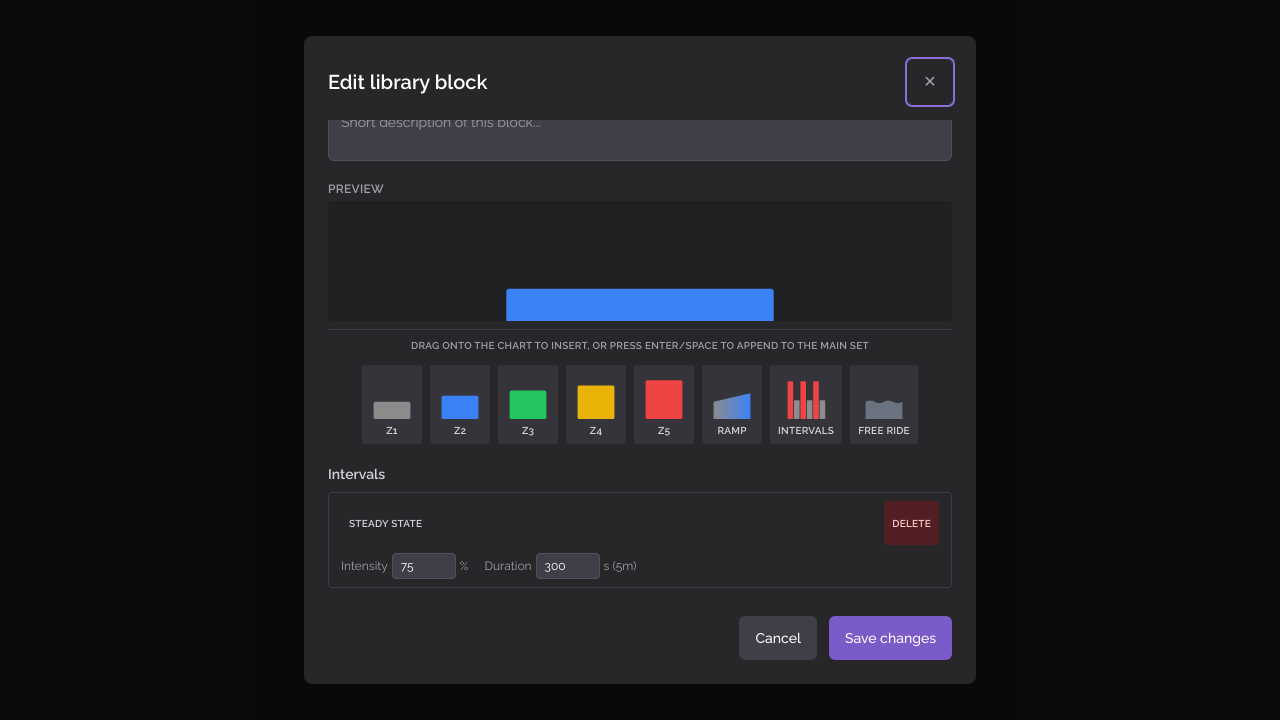
Scenario: CreateBlockModal › SteadyState field editing › resets duration to its previous value on blur with an invalid input
(page scrolled)
Step 1. Replace the text in the number field showing "300" with "0" → (568, 566), box [536, 553, 600, 579]
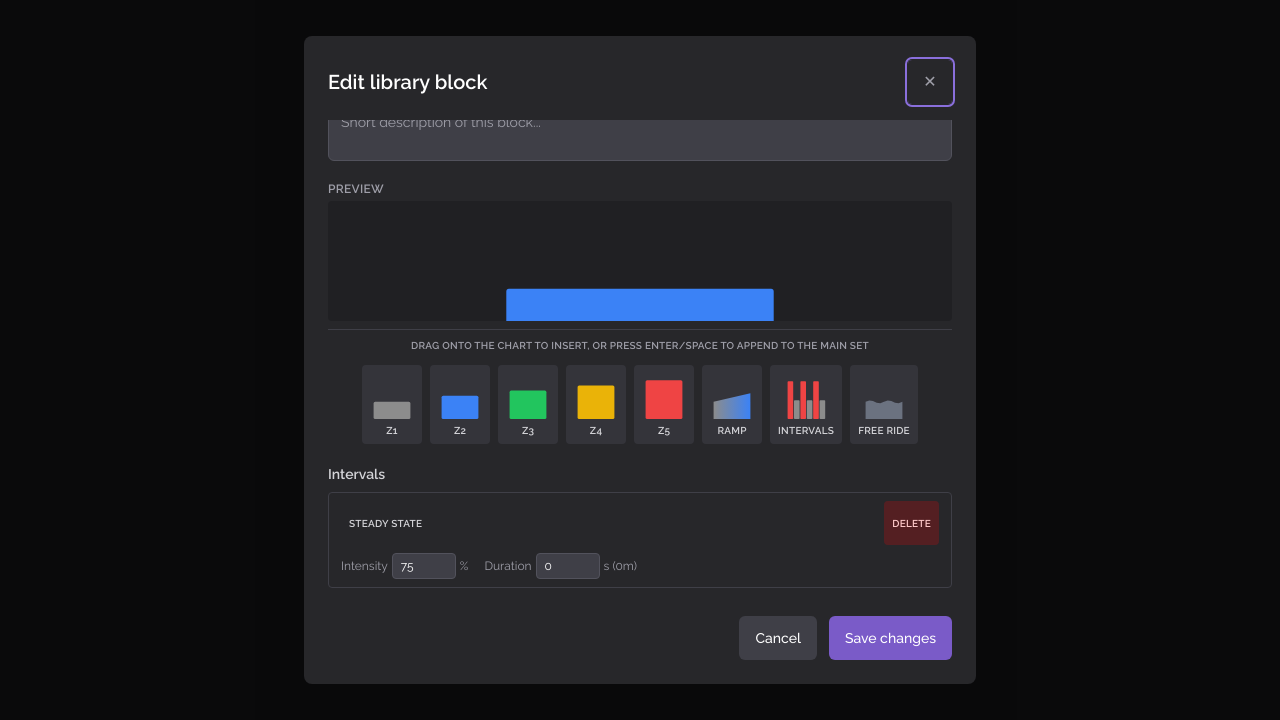
Step 2. Leave the number field showing "300", box [536, 553, 600, 579]
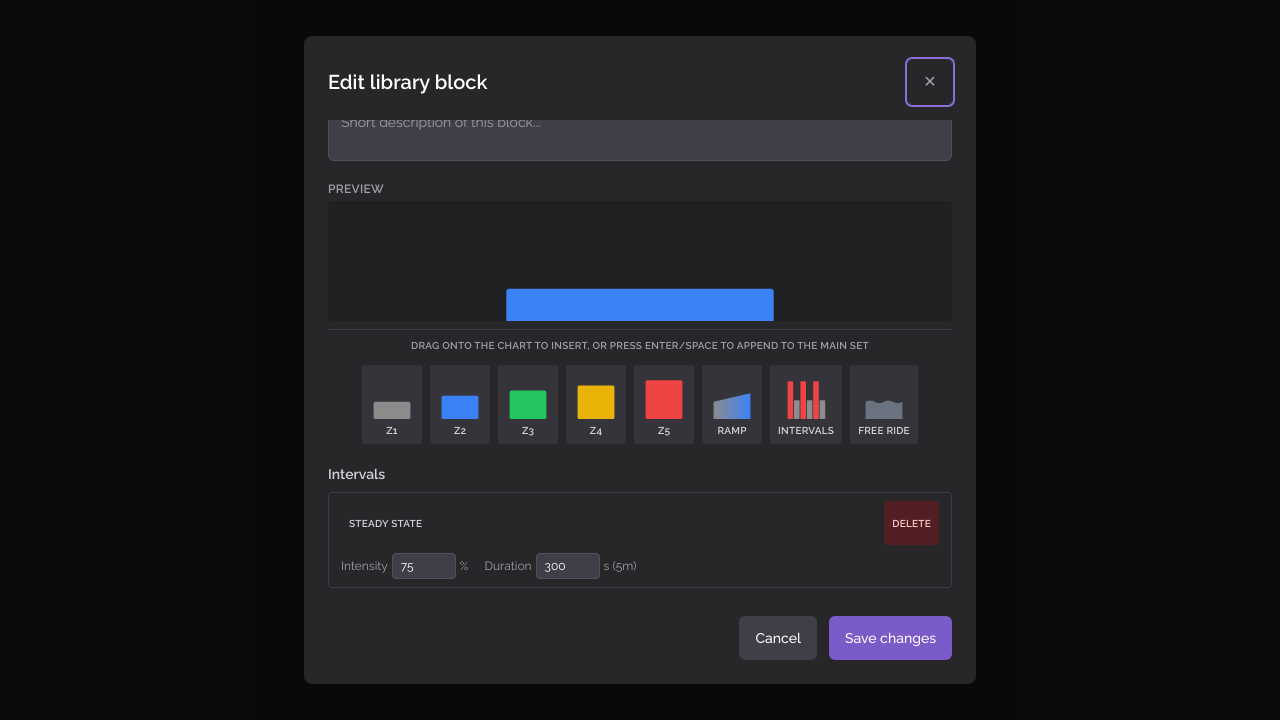
Now the number field showing "300" is shown, box [536, 553, 600, 579]
